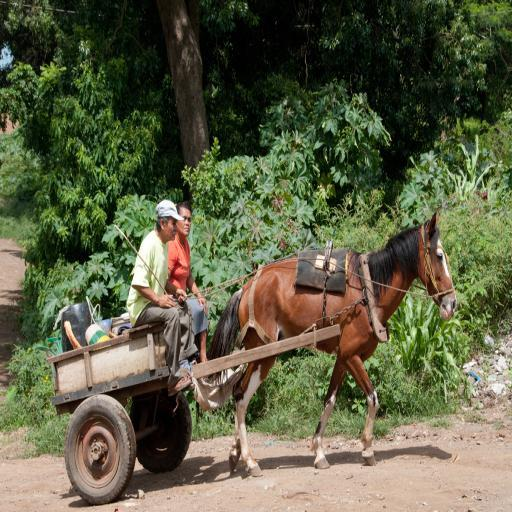Horse: (195, 212, 457, 476)
